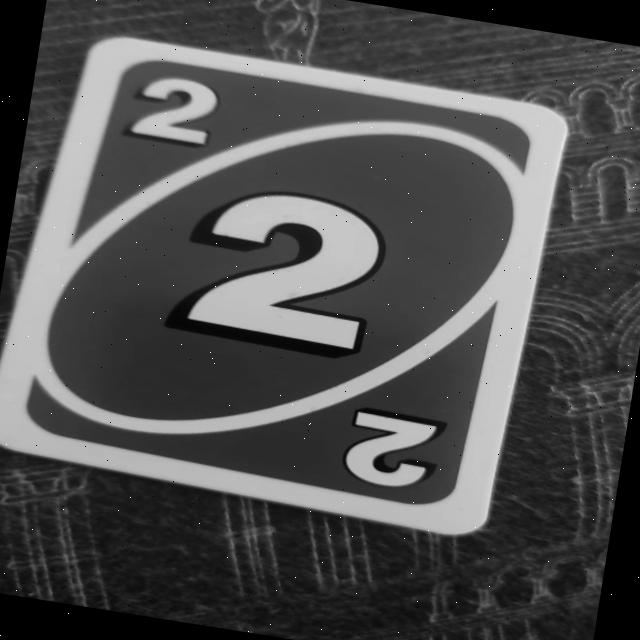card_2: (0, 23, 571, 544)
